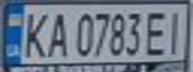0: (72, 9, 93, 57)
3: (124, 8, 145, 56)
7: (90, 8, 112, 57)
8: (109, 9, 130, 57)
A: (42, 8, 72, 59)
E: (142, 7, 172, 56)
I: (163, 6, 193, 55)
K: (18, 8, 51, 60)
